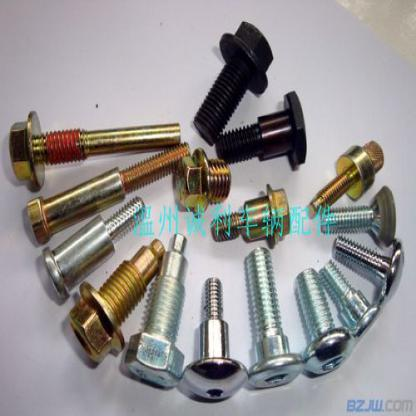FOD: (24, 132, 191, 243), (8, 106, 182, 193), (119, 230, 189, 390), (192, 16, 276, 146), (175, 275, 250, 406), (242, 244, 305, 391), (212, 89, 308, 168), (294, 264, 358, 380), (317, 184, 397, 249), (210, 182, 293, 244)
